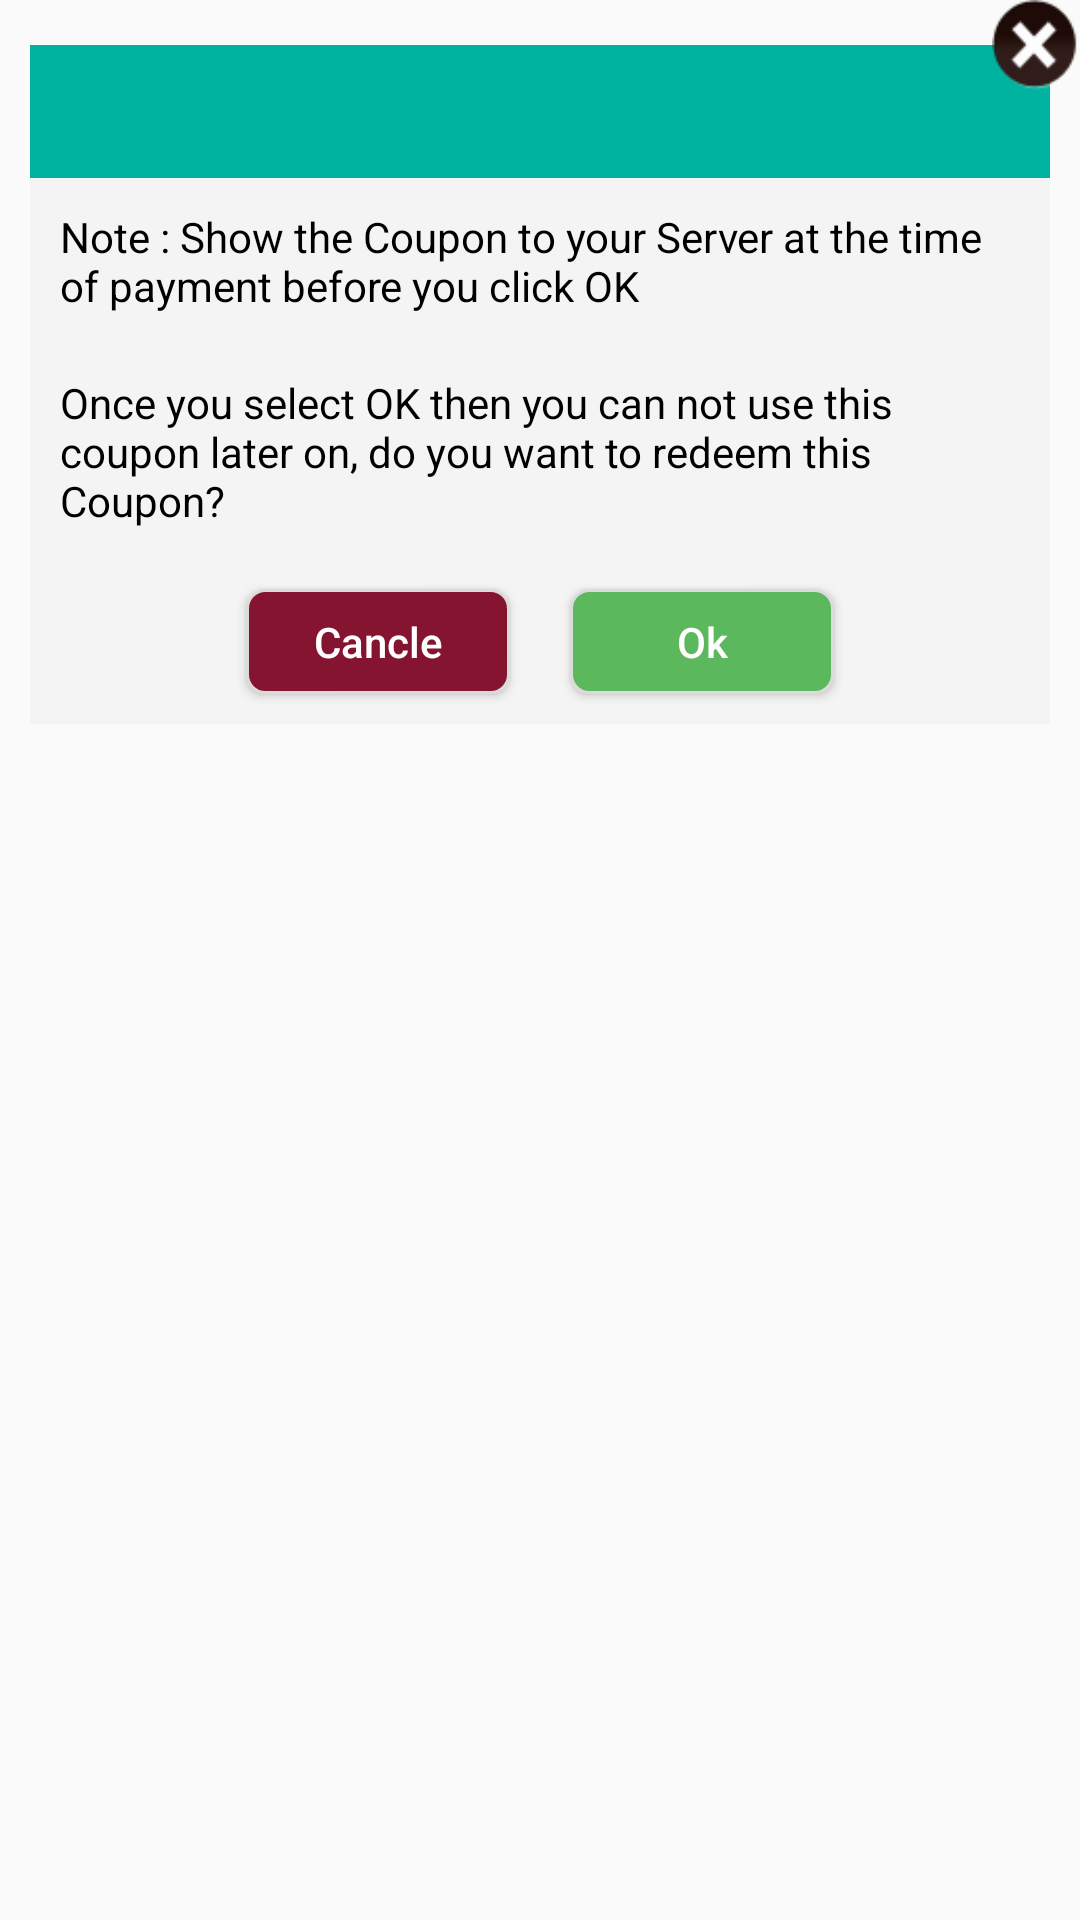

Icon click points for this 1080w x 1920h phone screenshot, format point (x, y):
close: point (1035, 45)
